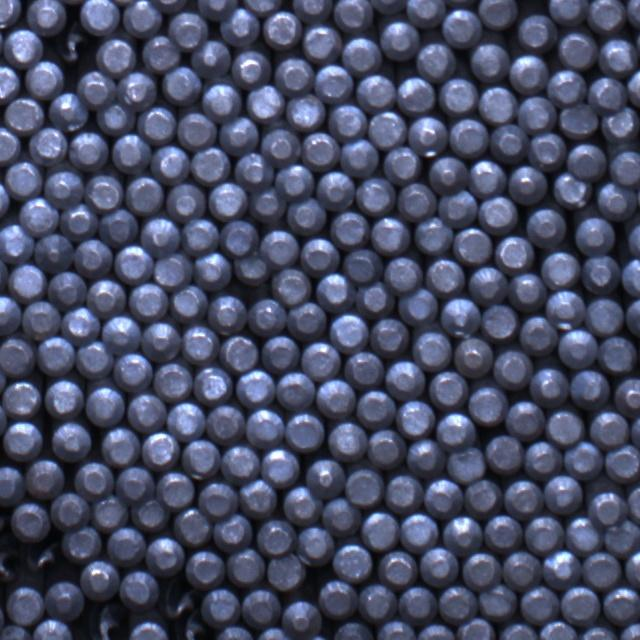tool: (203, 81, 244, 122), (449, 117, 489, 158), (25, 457, 65, 498), (112, 134, 152, 175), (571, 369, 612, 409), (525, 514, 566, 554), (441, 296, 482, 336), (70, 129, 110, 170), (380, 19, 420, 60), (406, 436, 446, 477), (142, 216, 182, 257), (525, 206, 566, 246), (596, 180, 637, 220), (419, 547, 459, 587), (10, 501, 50, 541), (186, 548, 226, 588), (409, 116, 449, 156), (328, 421, 368, 461), (121, 570, 161, 610), (507, 400, 547, 440), (20, 195, 60, 235), (371, 216, 411, 256), (442, 514, 482, 554), (412, 330, 452, 370), (34, 232, 74, 272), (4, 421, 44, 461), (529, 367, 569, 407), (142, 321, 182, 361), (367, 428, 407, 468), (508, 163, 548, 203), (260, 446, 300, 486), (106, 524, 146, 564), (316, 378, 356, 418), (246, 408, 286, 448), (220, 5, 260, 45), (50, 91, 90, 131), (416, 42, 456, 82), (334, 542, 374, 582), (320, 579, 360, 619), (86, 386, 126, 426), (284, 486, 324, 526), (80, 560, 120, 600), (520, 584, 560, 624), (368, 318, 408, 358), (151, 144, 191, 184), (504, 550, 544, 590), (546, 290, 586, 330), (398, 584, 438, 624), (385, 359, 425, 399), (470, 384, 510, 424), (52, 422, 92, 462), (315, 271, 355, 311), (44, 377, 84, 417), (580, 255, 620, 295), (485, 434, 524, 475), (74, 461, 115, 500), (306, 456, 345, 497), (402, 511, 441, 552), (509, 53, 548, 94), (428, 155, 469, 194), (435, 410, 476, 449), (282, 598, 323, 637), (301, 130, 340, 170), (345, 468, 385, 507), (115, 244, 154, 284), (166, 400, 205, 440), (385, 473, 424, 513), (561, 584, 600, 624), (362, 509, 401, 549), (318, 168, 357, 208), (600, 38, 639, 78), (162, 66, 202, 105), (136, 104, 176, 143), (96, 36, 136, 75), (590, 410, 630, 449), (200, 588, 240, 627), (495, 350, 534, 390), (453, 336, 492, 376), (331, 311, 370, 351), (425, 477, 464, 517), (358, 389, 397, 429), (563, 441, 603, 480), (101, 426, 140, 466), (439, 189, 479, 228), (296, 526, 335, 566), (464, 550, 503, 590), (558, 328, 597, 368), (469, 265, 509, 304), (88, 277, 128, 316), (260, 128, 300, 167), (287, 411, 326, 451), (167, 181, 207, 220), (442, 9, 482, 48), (44, 167, 84, 206), (302, 238, 342, 277), (115, 352, 154, 392), (276, 372, 316, 411), (303, 22, 342, 62), (232, 50, 272, 89), (220, 116, 260, 155), (566, 514, 605, 554), (127, 393, 166, 433), (543, 548, 582, 588), (472, 41, 511, 81), (212, 512, 252, 551), (207, 404, 246, 444), (117, 70, 157, 109), (575, 214, 614, 254), (46, 579, 85, 619), (286, 197, 326, 236), (155, 362, 194, 401), (489, 124, 528, 163), (314, 62, 353, 101), (544, 474, 583, 513), (479, 194, 518, 233), (341, 137, 380, 176), (302, 340, 341, 379), (503, 479, 542, 518), (36, 335, 75, 374), (177, 112, 216, 151), (194, 363, 233, 402), (356, 177, 395, 216), (126, 176, 165, 215), (524, 439, 563, 478), (30, 127, 69, 166), (287, 302, 326, 341), (226, 547, 265, 586), (324, 496, 363, 535), (494, 235, 534, 273), (148, 536, 186, 576), (379, 549, 419, 587), (76, 239, 114, 279), (341, 36, 381, 74), (430, 371, 470, 409), (199, 480, 239, 518), (356, 72, 396, 110), (439, 584, 479, 622), (427, 258, 467, 296), (358, 584, 398, 622), (208, 294, 246, 334), (398, 182, 438, 220), (191, 147, 231, 185), (242, 587, 280, 627), (328, 103, 368, 141), (172, 506, 212, 544), (599, 335, 639, 373), (520, 316, 558, 356), (546, 407, 586, 445), (287, 92, 327, 130), (437, 75, 477, 113), (183, 439, 221, 479), (557, 30, 597, 68), (268, 552, 308, 590), (586, 74, 626, 112), (101, 314, 141, 352), (276, 162, 316, 200), (190, 38, 230, 76), (168, 12, 209, 49), (368, 110, 407, 148), (4, 96, 43, 134), (25, 60, 64, 98), (154, 252, 193, 290), (264, 9, 303, 47), (272, 268, 311, 306), (22, 300, 61, 338), (546, 69, 585, 107), (528, 132, 566, 171), (5, 584, 43, 623), (586, 297, 625, 335), (542, 250, 581, 288), (398, 399, 436, 438), (209, 180, 247, 219), (453, 227, 492, 265), (479, 85, 517, 124), (10, 262, 48, 301), (62, 306, 101, 344), (509, 271, 547, 310), (520, 98, 559, 136), (248, 84, 287, 122), (52, 491, 91, 529), (237, 369, 276, 407), (142, 431, 180, 470), (77, 69, 116, 107), (239, 478, 277, 517), (223, 444, 262, 482), (260, 229, 299, 267), (414, 217, 453, 255), (400, 288, 439, 326), (76, 340, 115, 378), (235, 151, 274, 189), (195, 250, 232, 290), (274, 56, 314, 93), (63, 525, 103, 562), (479, 583, 519, 620), (344, 349, 384, 386), (355, 280, 395, 317), (121, 0, 162, 36), (586, 490, 627, 526), (142, 34, 180, 72), (130, 282, 168, 320), (4, 161, 42, 199), (470, 161, 508, 199), (5, 27, 43, 65), (582, 551, 620, 589), (384, 144, 422, 182), (86, 174, 124, 212), (554, 170, 592, 208), (61, 202, 99, 240), (482, 303, 520, 341), (248, 298, 286, 336), (50, 270, 88, 308), (464, 479, 502, 517), (602, 104, 640, 142), (332, 210, 371, 247), (569, 143, 608, 180), (447, 445, 486, 482), (398, 77, 437, 114), (180, 218, 219, 255), (384, 257, 423, 294), (257, 517, 296, 554), (181, 325, 218, 364), (102, 208, 141, 245), (517, 14, 556, 51), (248, 186, 287, 223), (559, 101, 599, 137), (157, 471, 195, 508), (170, 284, 208, 321), (263, 335, 301, 372), (484, 515, 523, 551), (117, 464, 156, 500), (0, 336, 36, 375), (605, 442, 640, 482), (604, 587, 640, 625), (91, 494, 129, 530), (222, 334, 260, 370), (2, 379, 40, 415), (234, 252, 272, 288), (0, 223, 35, 262), (81, 0, 121, 34), (25, 0, 65, 34), (343, 250, 383, 284), (222, 218, 259, 254), (132, 496, 170, 531), (606, 518, 640, 556), (98, 100, 136, 134), (334, 0, 374, 30), (478, 0, 518, 29), (587, 0, 625, 30), (408, 0, 447, 28), (611, 150, 640, 186), (0, 465, 25, 506), (615, 374, 640, 415), (548, 0, 588, 25), (292, 0, 333, 22), (456, 617, 495, 640), (0, 294, 22, 334), (32, 618, 71, 640), (334, 620, 376, 640), (0, 126, 21, 164), (197, 0, 239, 19), (0, 63, 20, 102), (540, 620, 579, 640), (378, 620, 416, 640), (130, 620, 168, 640), (500, 622, 539, 640), (622, 258, 640, 296), (418, 622, 456, 640), (626, 212, 640, 257), (241, 0, 284, 14), (625, 548, 640, 588), (216, 625, 256, 640), (580, 625, 620, 640), (627, 480, 640, 526), (626, 67, 640, 107), (148, 0, 194, 12), (0, 0, 21, 26), (626, 297, 640, 336), (256, 626, 295, 640), (0, 624, 31, 640), (371, 0, 409, 13), (0, 174, 9, 219), (626, 0, 640, 27), (631, 412, 640, 452), (0, 256, 9, 296), (621, 622, 640, 640), (0, 363, 7, 395), (0, 402, 6, 437)
tool_b: (85, 603, 126, 640), (56, 26, 92, 64), (160, 584, 198, 620), (24, 540, 59, 575), (172, 614, 210, 640), (0, 540, 22, 583)
